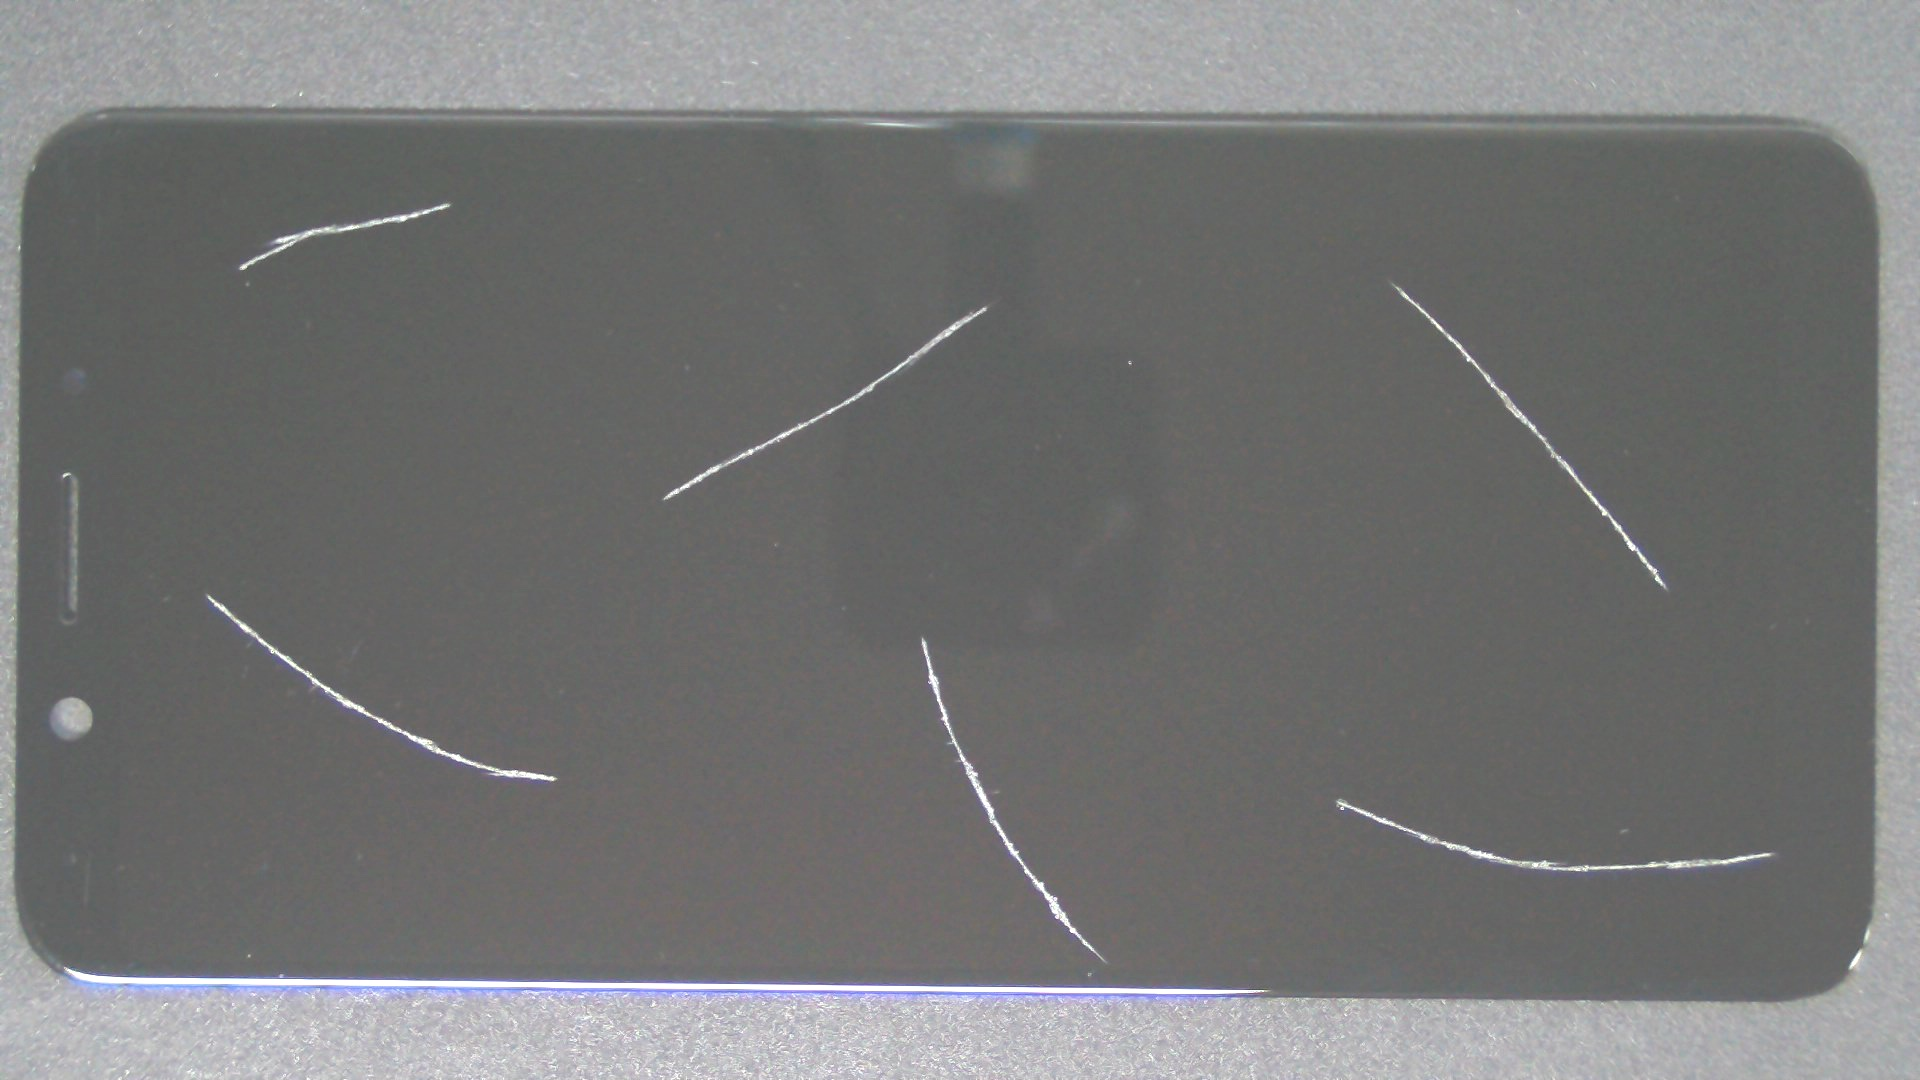oil: (670, 397, 1920, 1080), (462, 316, 1385, 953), (696, 140, 1920, 425), (493, 152, 1477, 458), (103, 294, 307, 887), (225, 100, 673, 303)
